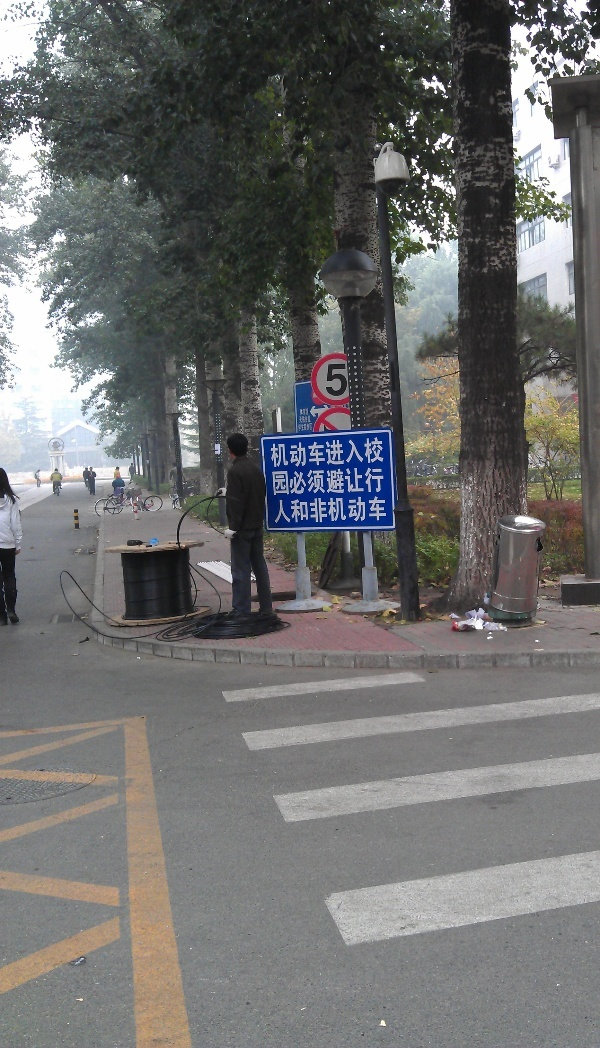text: (273, 437, 288, 468), (289, 437, 304, 468), (305, 437, 320, 468), (321, 437, 336, 468), (337, 437, 352, 468), (353, 437, 368, 468), (369, 437, 384, 468), (273, 467, 288, 497), (289, 467, 304, 497), (305, 467, 320, 497), (321, 467, 336, 497), (337, 467, 352, 497), (353, 467, 368, 497), (369, 467, 384, 497), (273, 496, 288, 524), (289, 496, 304, 524), (305, 496, 320, 524), (321, 496, 336, 524), (337, 496, 352, 524), (353, 496, 368, 524), (369, 496, 384, 524), (326, 363, 336, 396), (337, 363, 347, 396), (269, 437, 272, 468), (305, 422, 313, 432), (385, 496, 387, 524), (305, 415, 311, 424), (299, 422, 304, 432), (299, 415, 304, 424), (300, 408, 304, 416), (305, 408, 309, 416), (385, 437, 386, 468), (271, 467, 272, 497), (385, 467, 386, 497)
